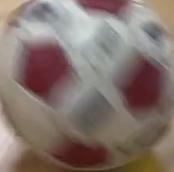Sports-Ball: (4, 2, 169, 166)
